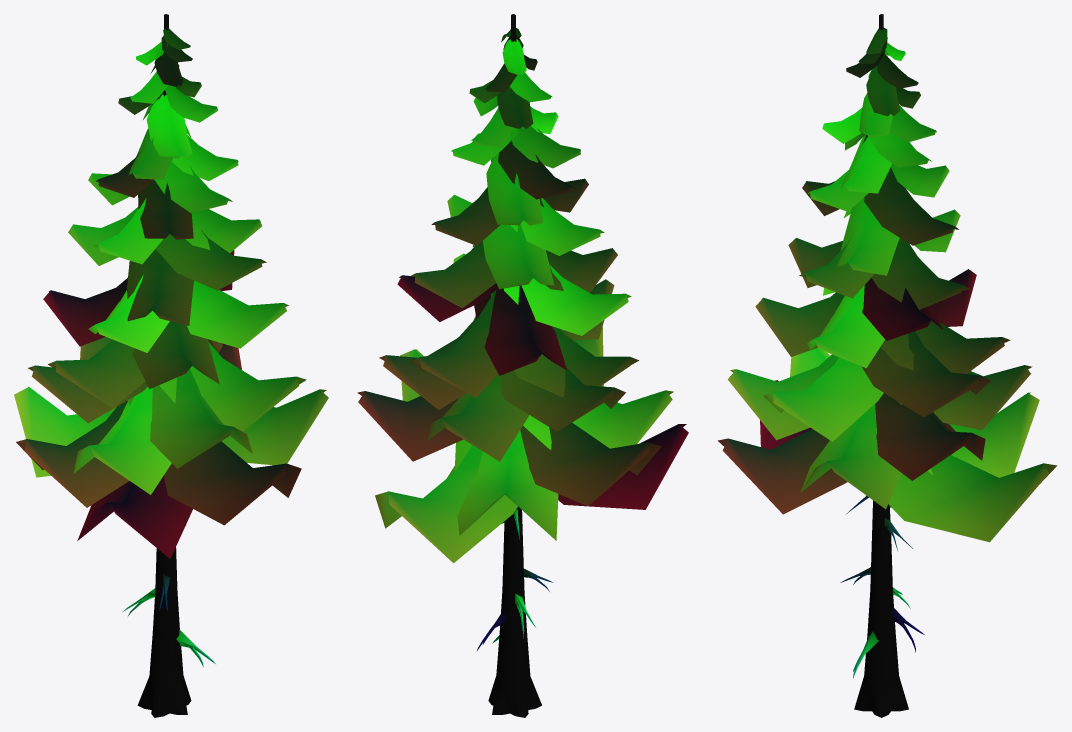
Rendered from M_Pine_6_11.fbx.
3 renders of one model, left to right at view 1: azimuth 30°, elevation 25°; view 2: azimuth 150°, elevation 25°; view 3: azimuth 270°, elevation 25°, orthographic.
Parts seen in each view (by area): view 1: Tree_11; view 2: Tree_11; view 3: Tree_11.
Part boxes in pixels (bbox=[...]): Tree_11: bbox=[14, 14, 328, 717]; Tree_11: bbox=[357, 14, 688, 717]; Tree_11: bbox=[718, 14, 1057, 717].
Size of the model in its own units: 1014 by 2379 by 1060.
